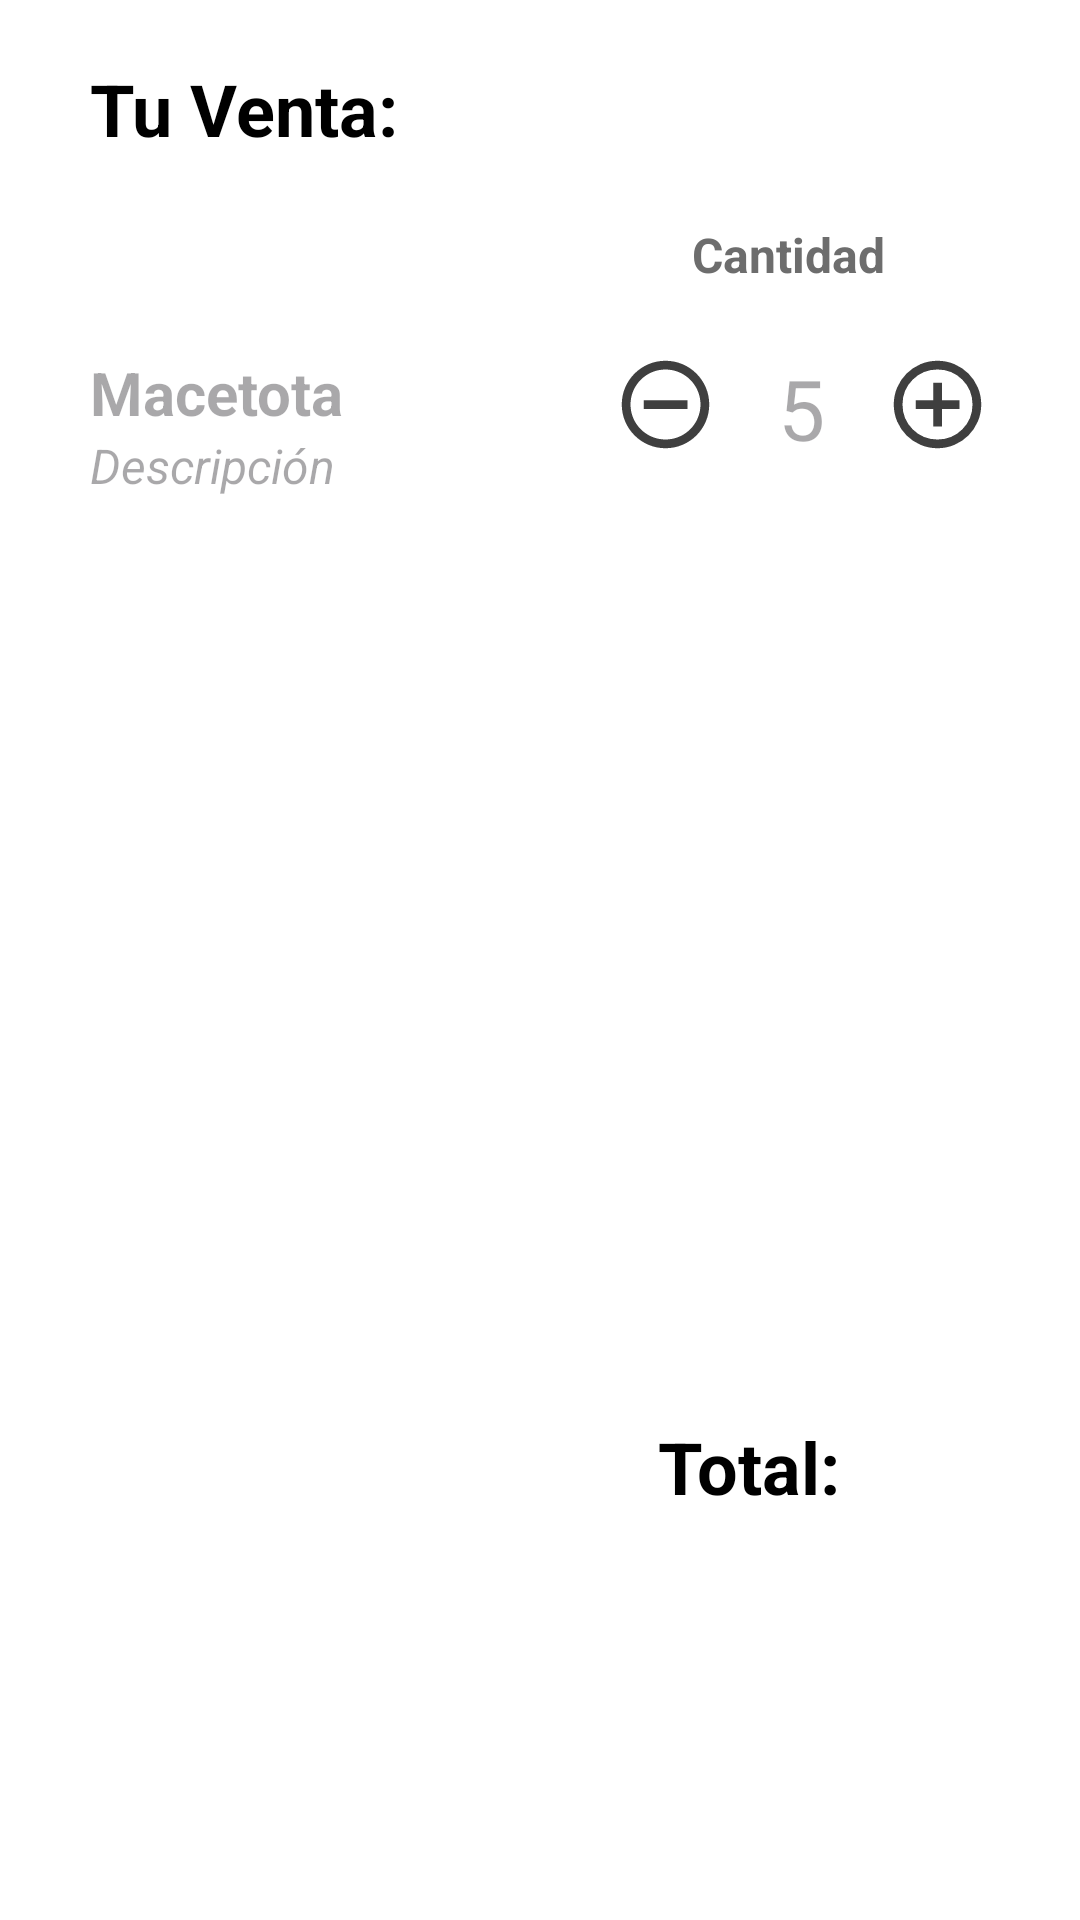

Point at icon controls on the screen. Image size 1080x1920, points as (x=x, y=y).
minus: (x=665, y=404)
